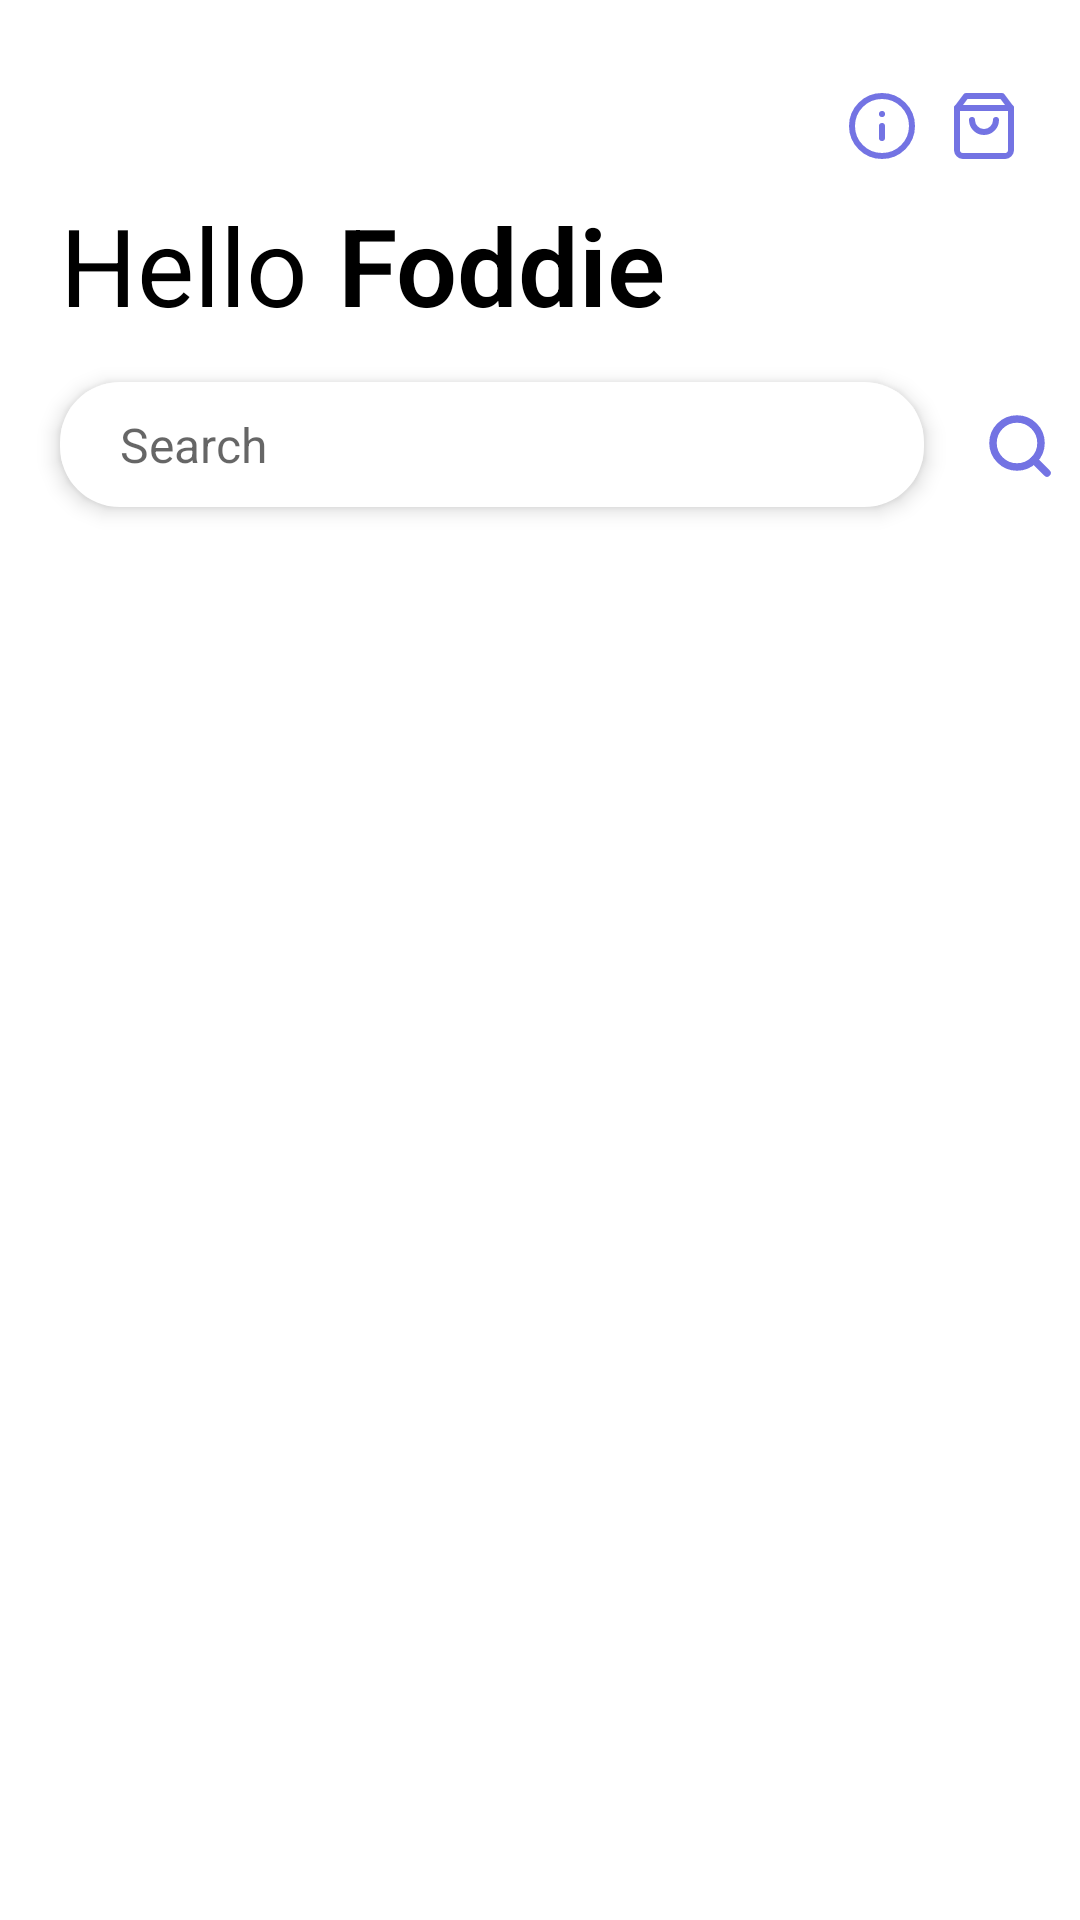

Icon bounding boxes for this 1080px x 1920px phone screenshot, format bbox=(x1, y1, x2, y2):
cart: bbox=(954, 93, 1014, 159)
drawer info: bbox=(849, 93, 915, 159)
